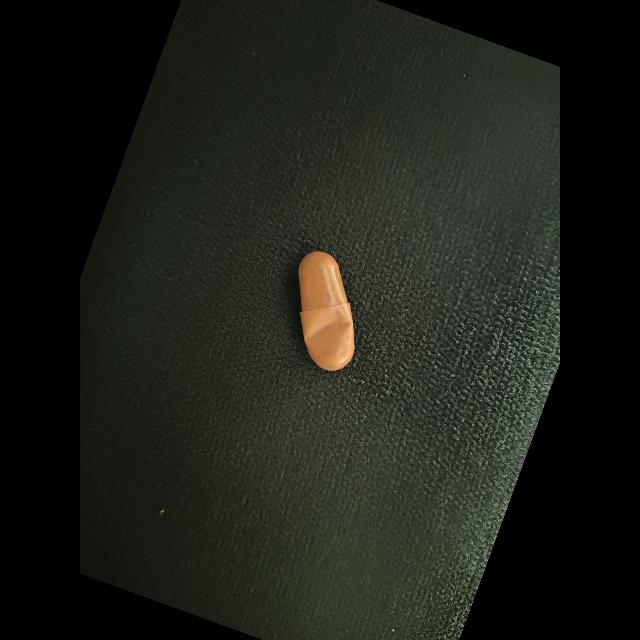Defective Capsule: (304, 307, 353, 349)
